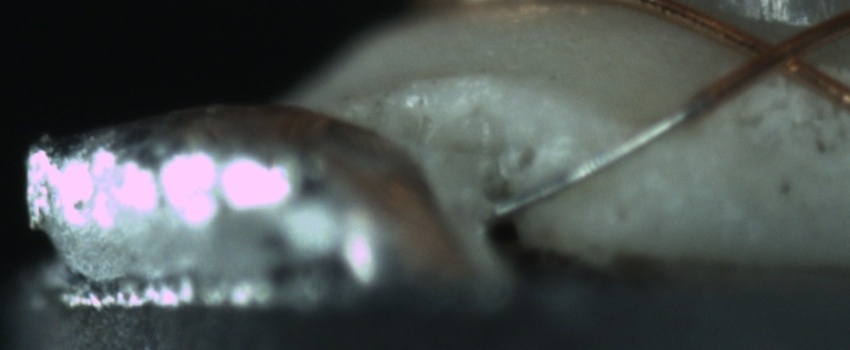CL: (731, 20, 824, 83)
TS: (491, 95, 710, 215)
